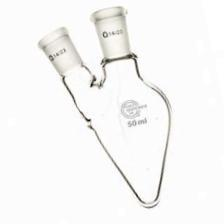Pear shaped flask: (33, 16, 170, 212)
